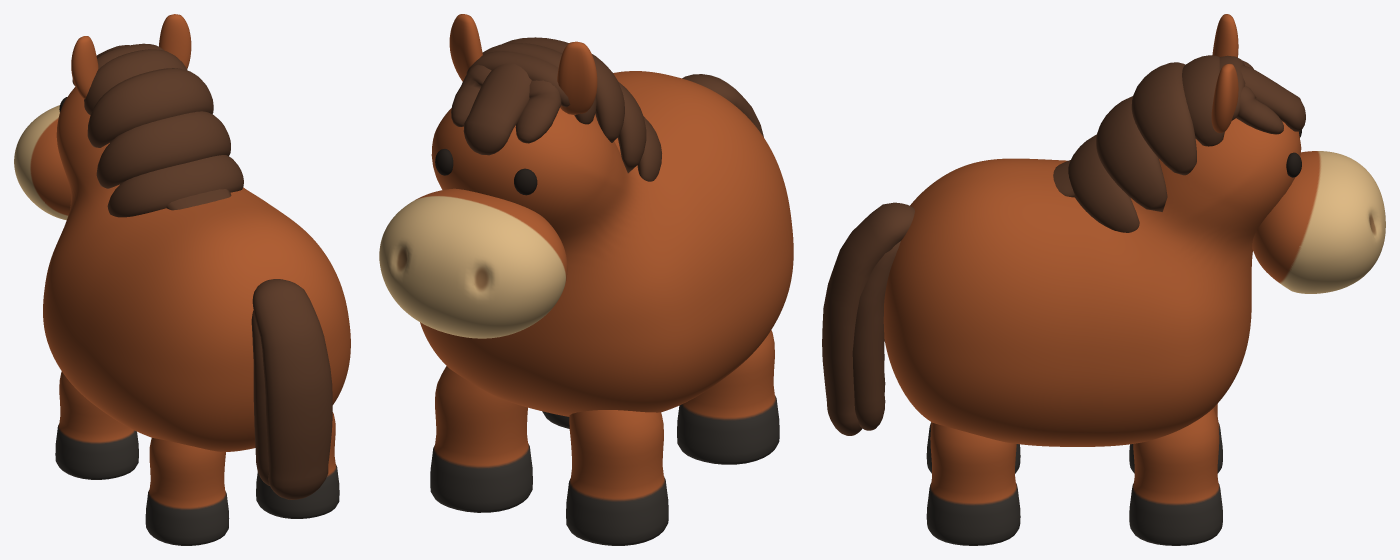
The picture shows the model from 3 angles, left to right: view 1: azimuth 30°, elevation 25°; view 2: azimuth 150°, elevation 25°; view 3: azimuth 270°, elevation 25°; orthographic projection. The views are drawn at different scales.
Bounding box in the file's own units: 0.8933 × 1.5 × 1.67.
Materials: 1 (1 with a texture image).
